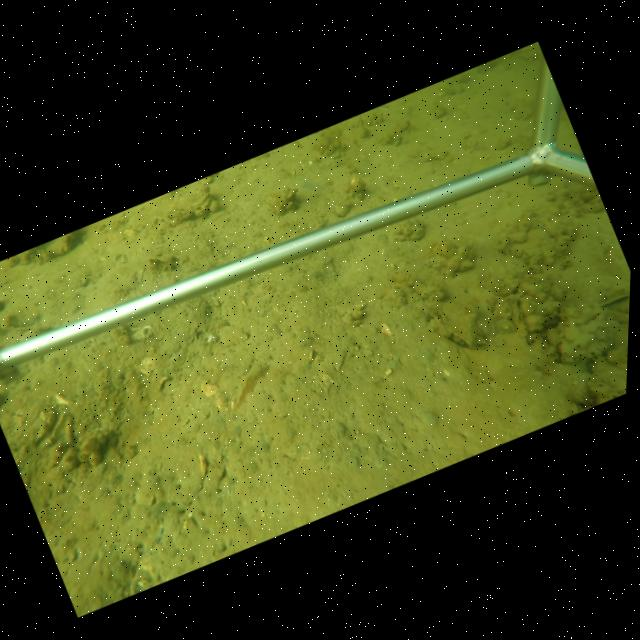Oyster-Closed: (165, 189, 213, 217), (276, 187, 299, 214), (513, 297, 528, 336)
Oyster-Indeterminate: (437, 294, 493, 347)
